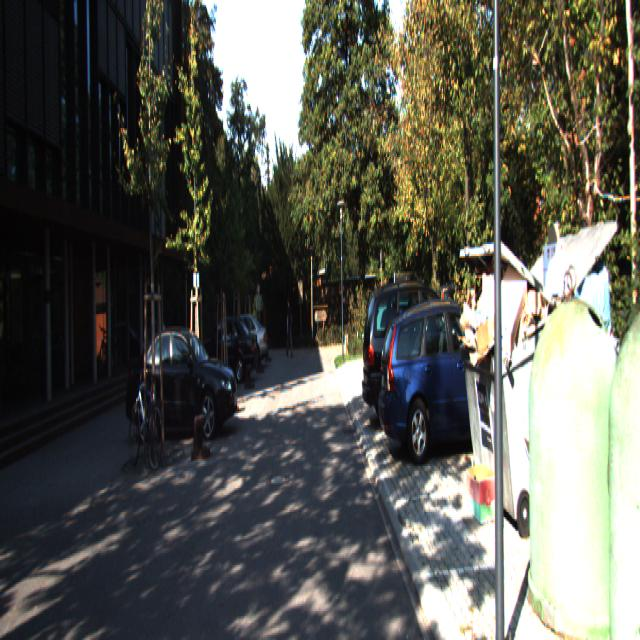Car: (377, 296, 529, 464), (360, 277, 478, 430), (125, 326, 239, 443), (193, 316, 259, 388), (215, 315, 268, 371)
DontCare: (285, 297, 292, 356)
